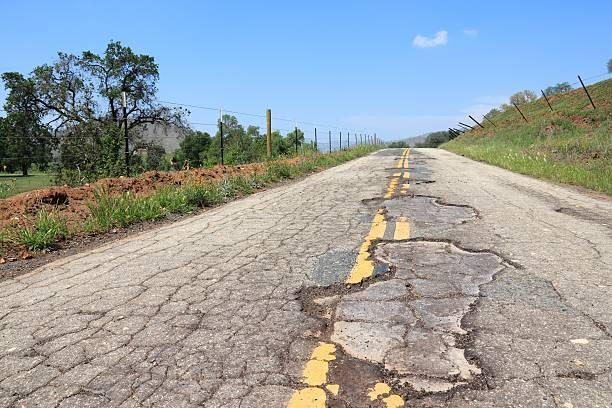field: (0, 149, 373, 279), (442, 77, 612, 196)
road: (0, 149, 611, 406)
